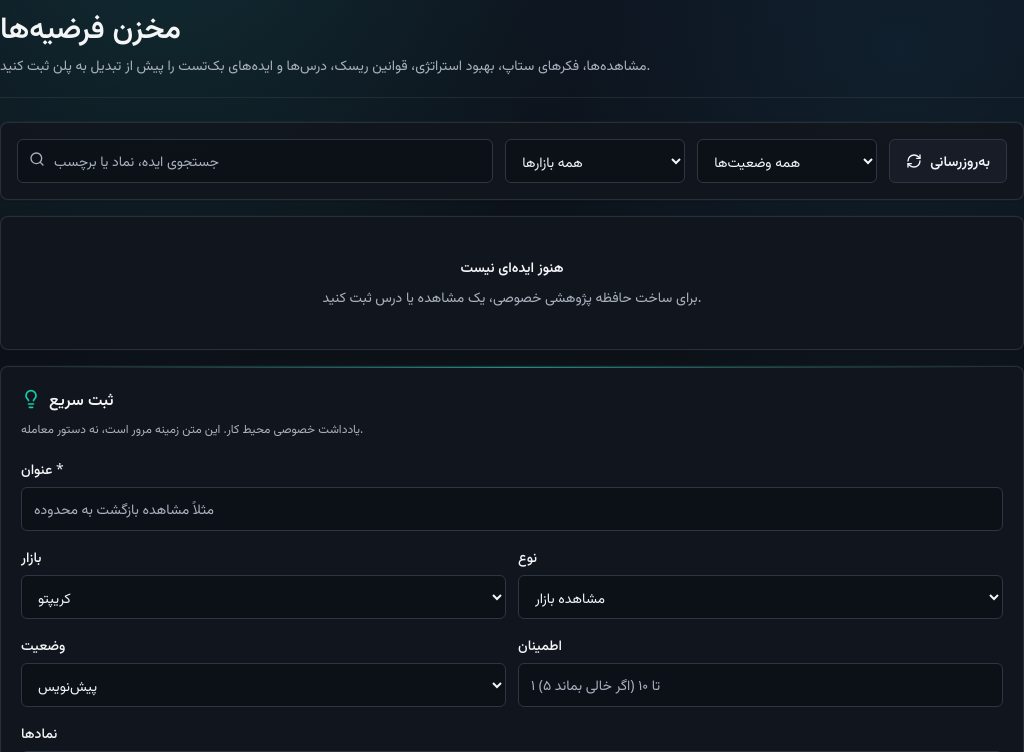
ideas errors are shown in the page language › a failed save names the rejected fields in Persian, next to the save button
Type "ایده" into the field labelled "عنوان *" at (512, 509), box [21,487,1003,531]
(page scrolled)
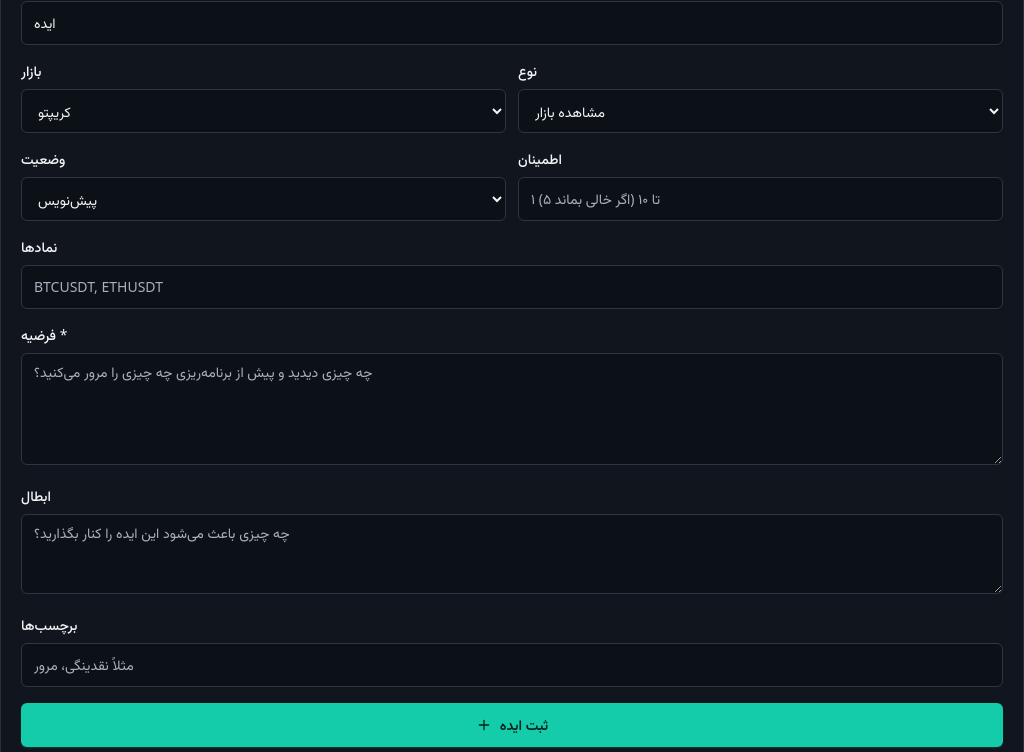
Type "فرضیه کوتاه" into the text box labelled "فرضیه *" at (512, 409), box [21,353,1003,465]
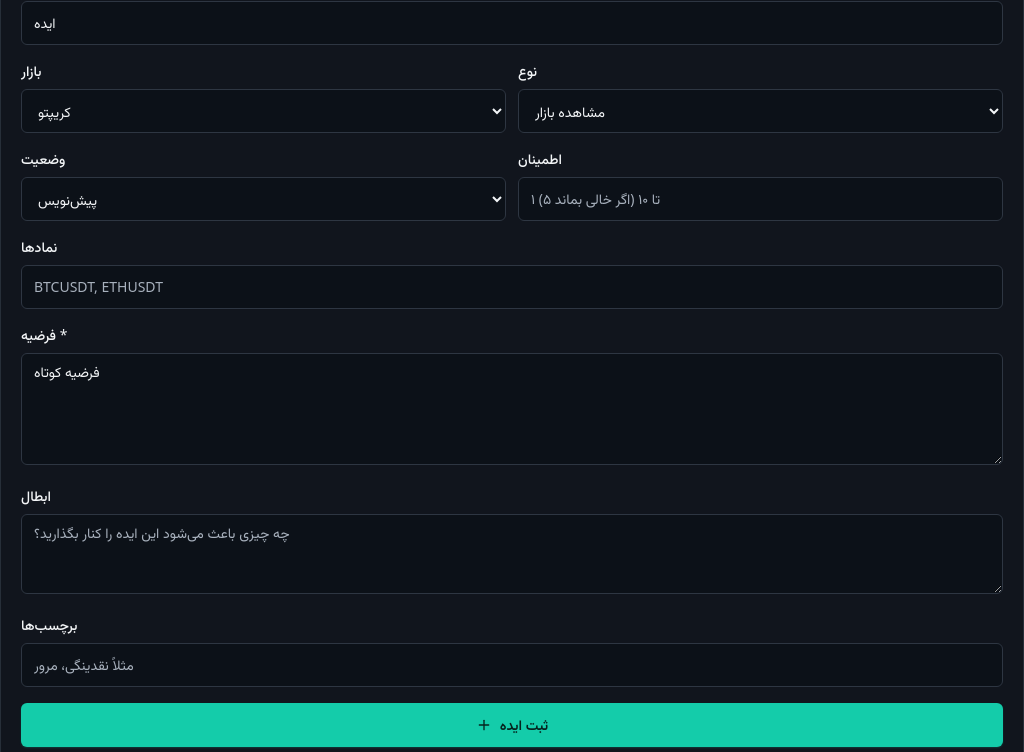
Click the button "ثبت ایده" at (512, 725), box [21,703,1003,747]
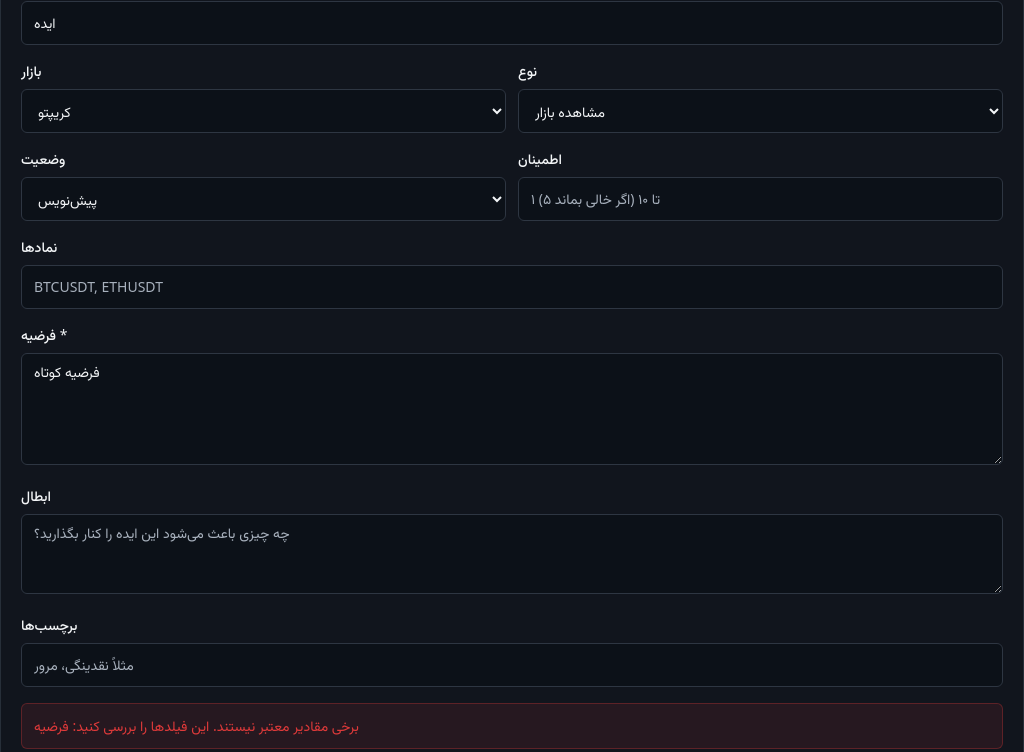
Result: the message shows "فرضیه" at [34,716,359,735]
